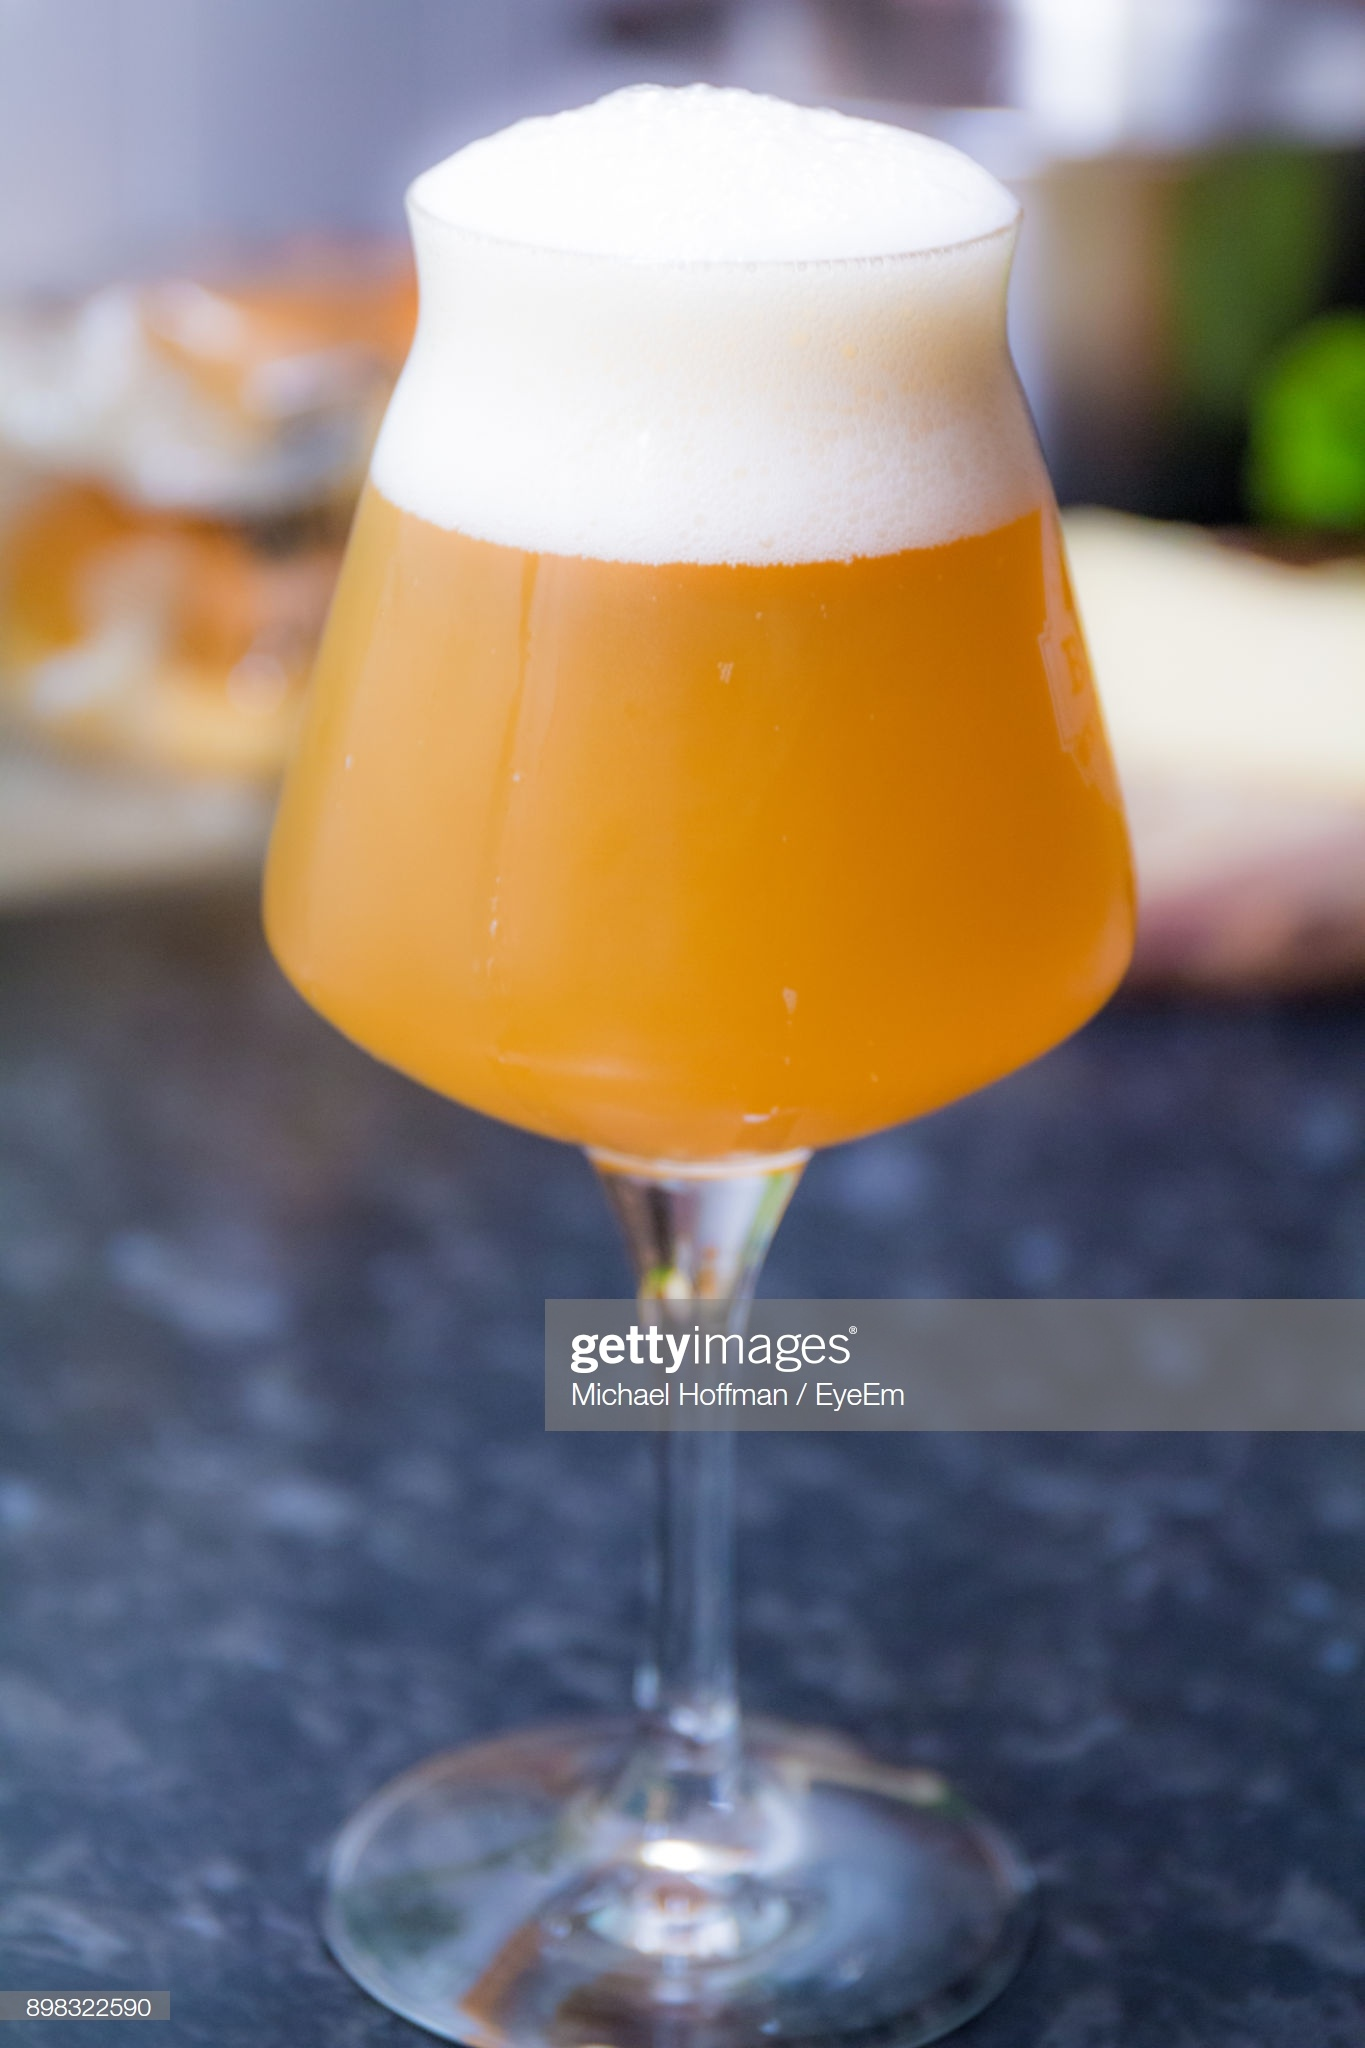glassBeer: (254, 108, 1118, 1249)
